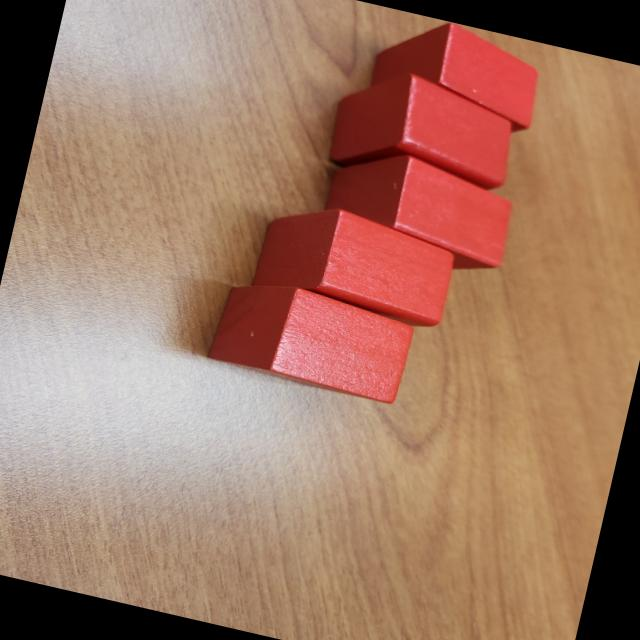red: (310, 138, 526, 284), (318, 56, 526, 206), (245, 192, 462, 333), (204, 270, 418, 405), (368, 9, 550, 138)
